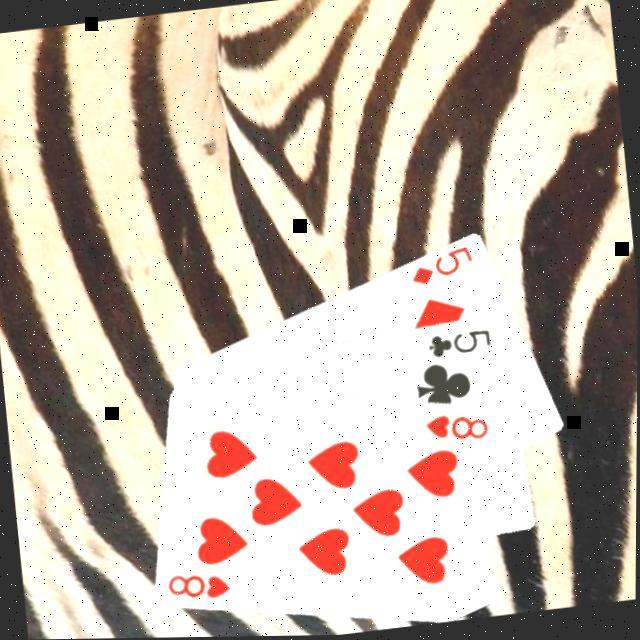5C: (425, 326, 496, 363)
5D: (407, 242, 479, 290)
8H: (422, 408, 493, 451), (165, 566, 236, 608)
